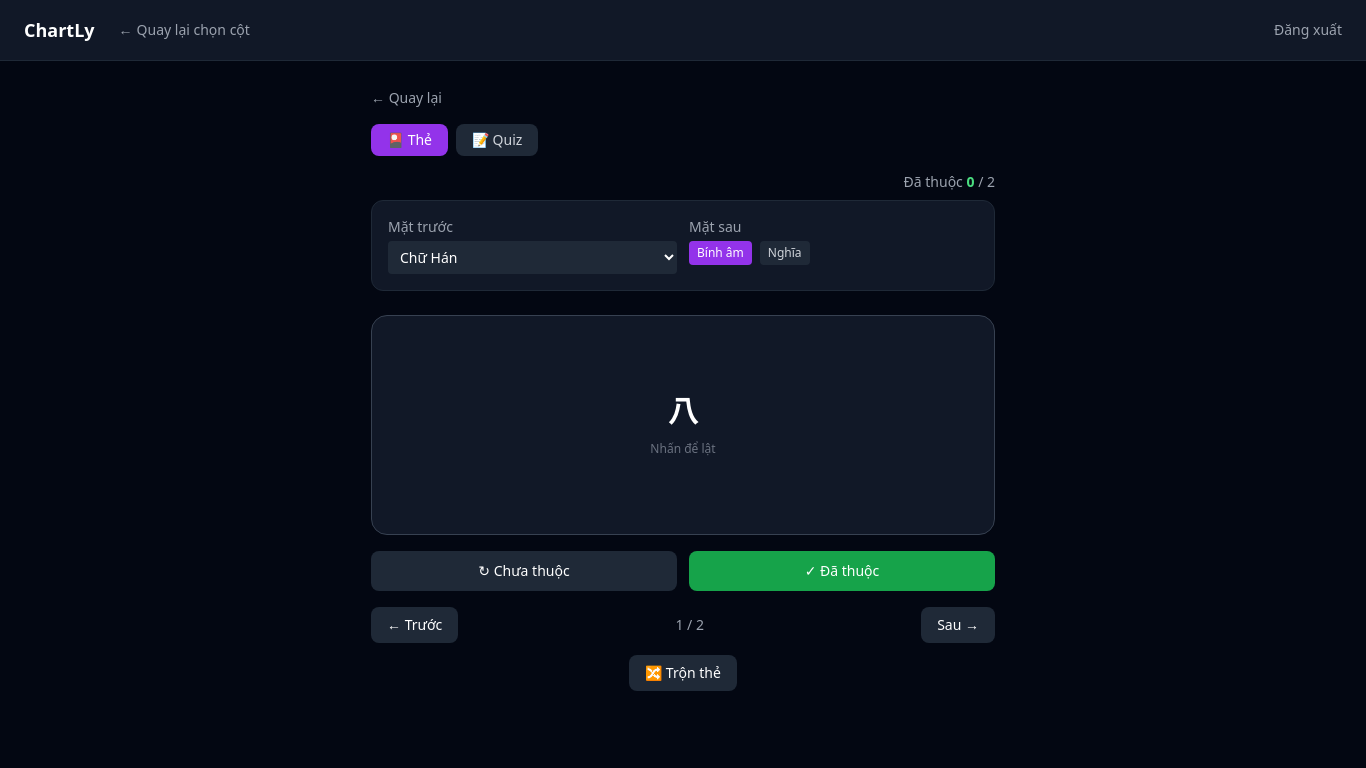
Test: LearnPage › can add a back column and show it when flipped
Check: the text "八" is shown, box 668,393 -> 698,429
Note: thêm "Nghĩa" vào mặt sau
Click the button "Nghĩa".
click(785, 253)  # box 760,241 -> 810,265
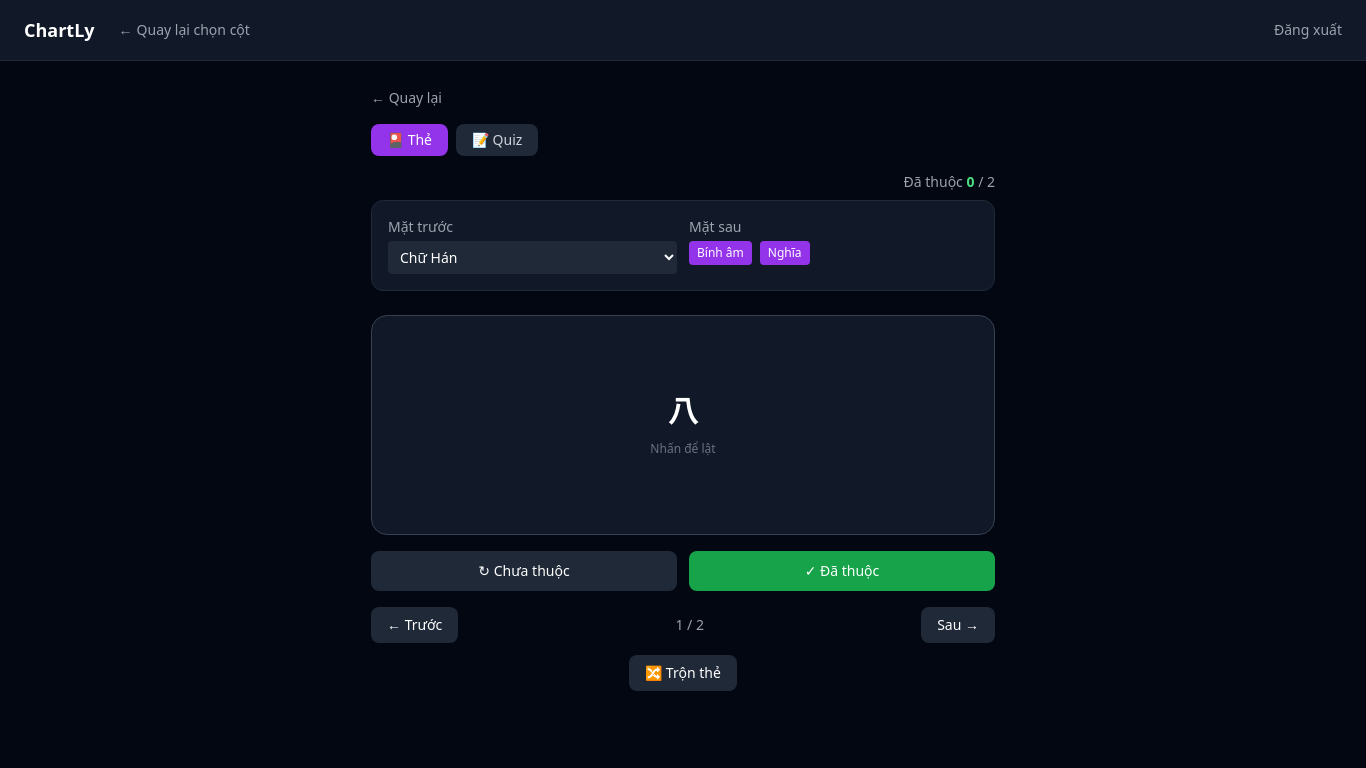
Click the button with aria-label "Lật thẻ".
click(683, 425)  # box 371,315 -> 995,535
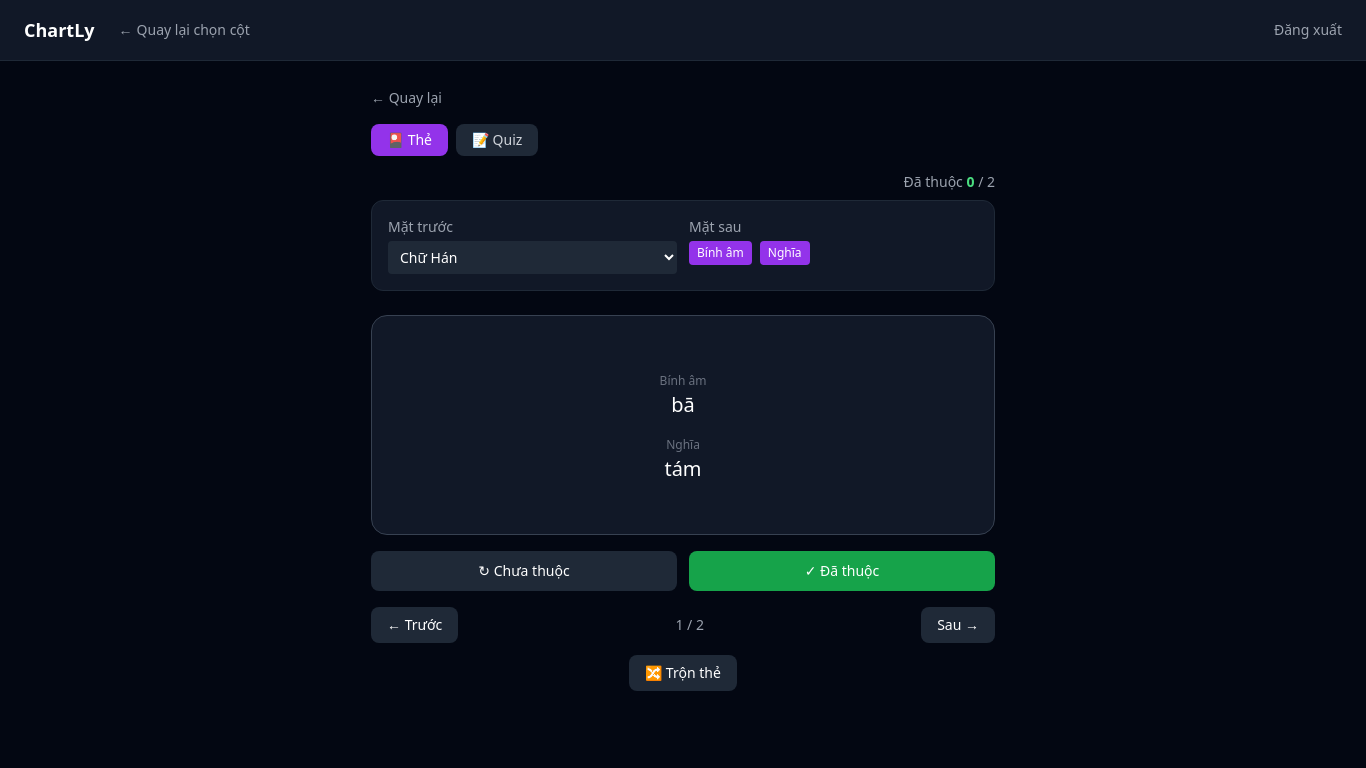
Check: the text "bā" is shown, box 671,391 -> 695,418
Check: the text "tám" is shown, box 664,455 -> 702,482
